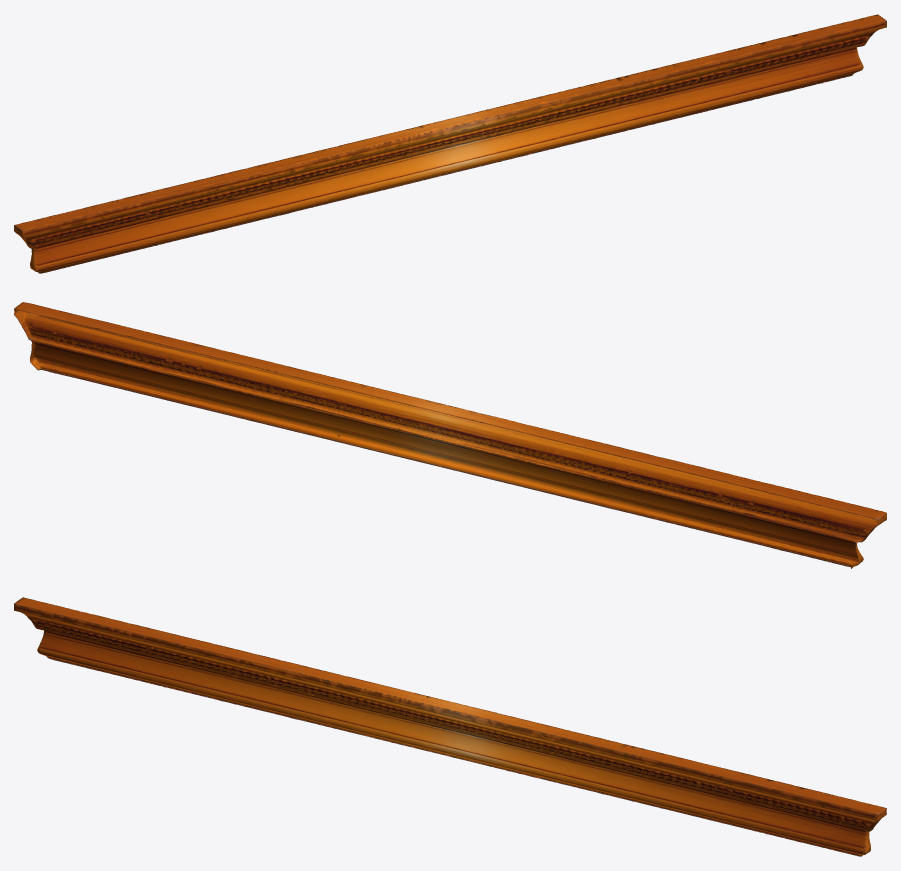
The model's file is beam.glb.
3 renders of one model, top to bottom at view 1: azimuth 30°, elevation 25°; view 2: azimuth 150°, elevation 25°; view 3: azimuth 330°, elevation 25°, orthographic.
Size of the model in its own units: 1.9 by 0.1166 by 0.0436.
1 material, 1 textured.
